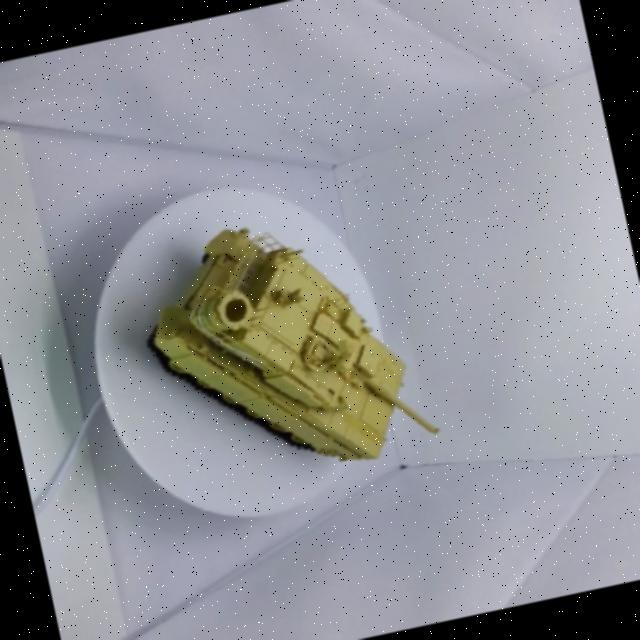korea tank: (114, 178, 475, 532)
